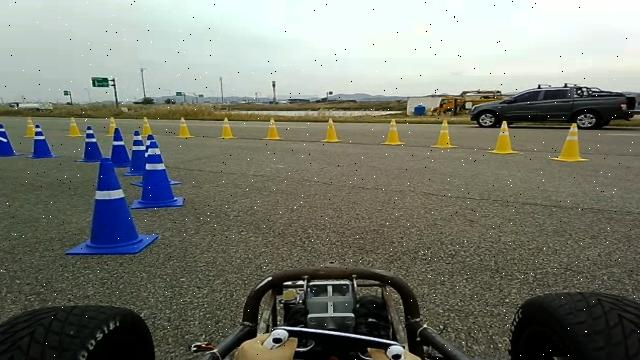blue cone: (64, 157, 160, 255), (130, 141, 184, 209), (25, 123, 59, 159), (74, 125, 104, 163), (125, 129, 146, 176), (109, 127, 131, 167), (0, 123, 22, 156), (144, 134, 159, 156)
yellow cone: (549, 123, 590, 162), (487, 120, 521, 154), (429, 119, 458, 148), (380, 118, 406, 145), (320, 117, 342, 142), (260, 117, 282, 140), (174, 116, 194, 138), (65, 116, 84, 137), (218, 116, 236, 138), (23, 117, 36, 137), (140, 115, 152, 136), (105, 116, 117, 136)
